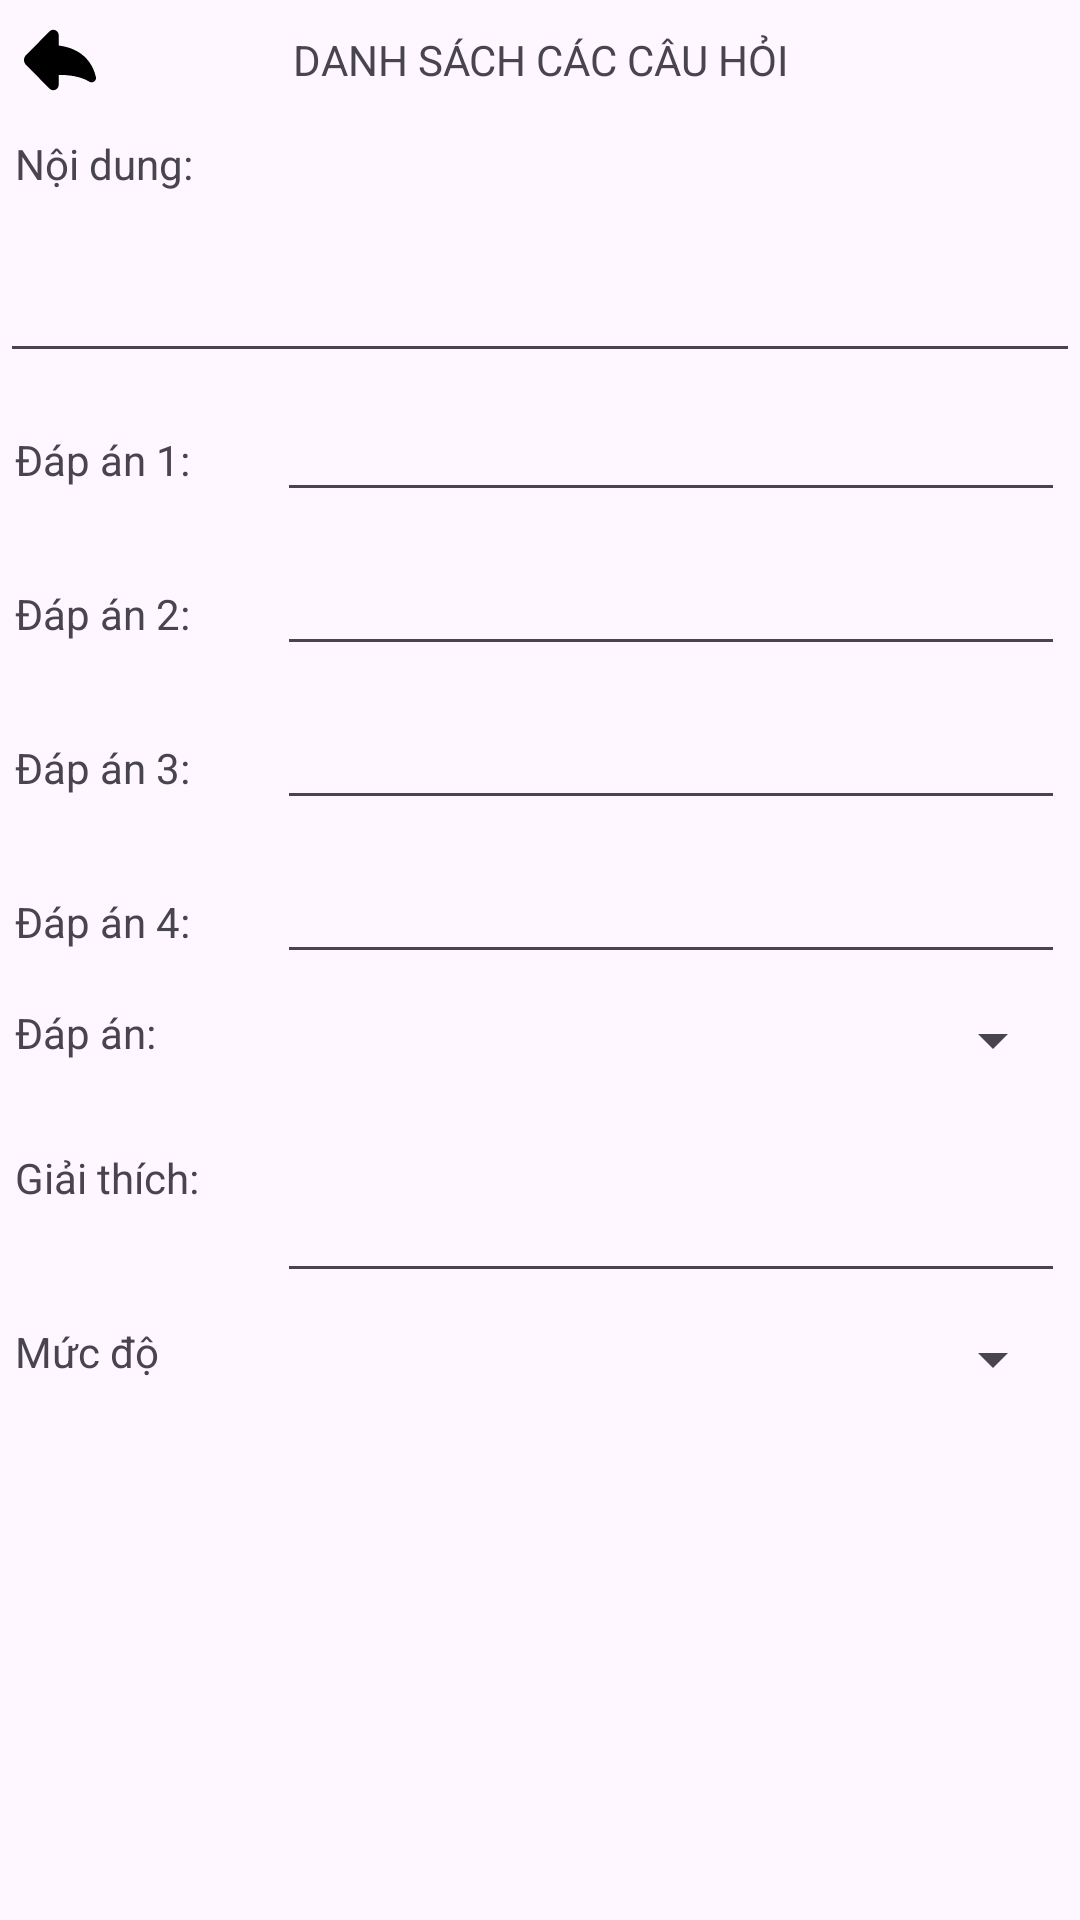

Where icons sit on this 1080 × 1920 app screen, as (x1, y1, x2, y2):
back arrow: (24, 29, 96, 91)
